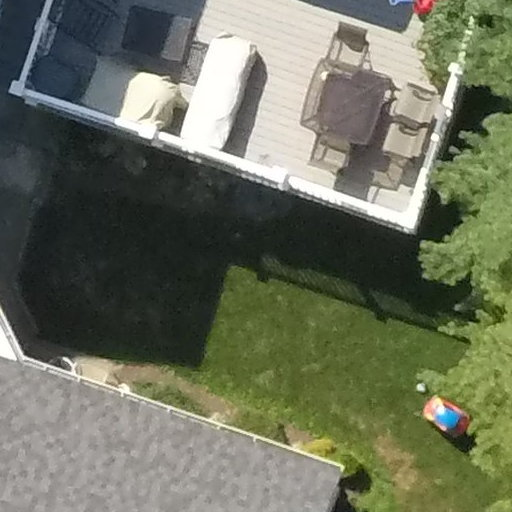table: (299, 42, 399, 163)
toy: (419, 385, 483, 450)
